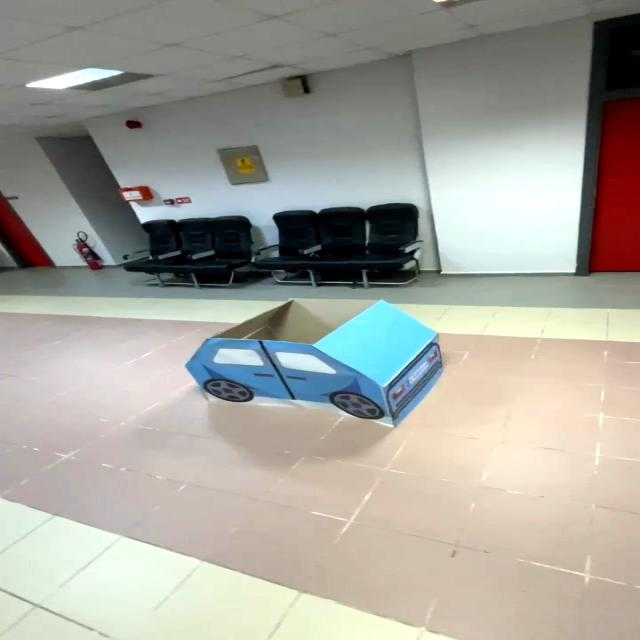blue_car: (166, 283, 473, 451)
